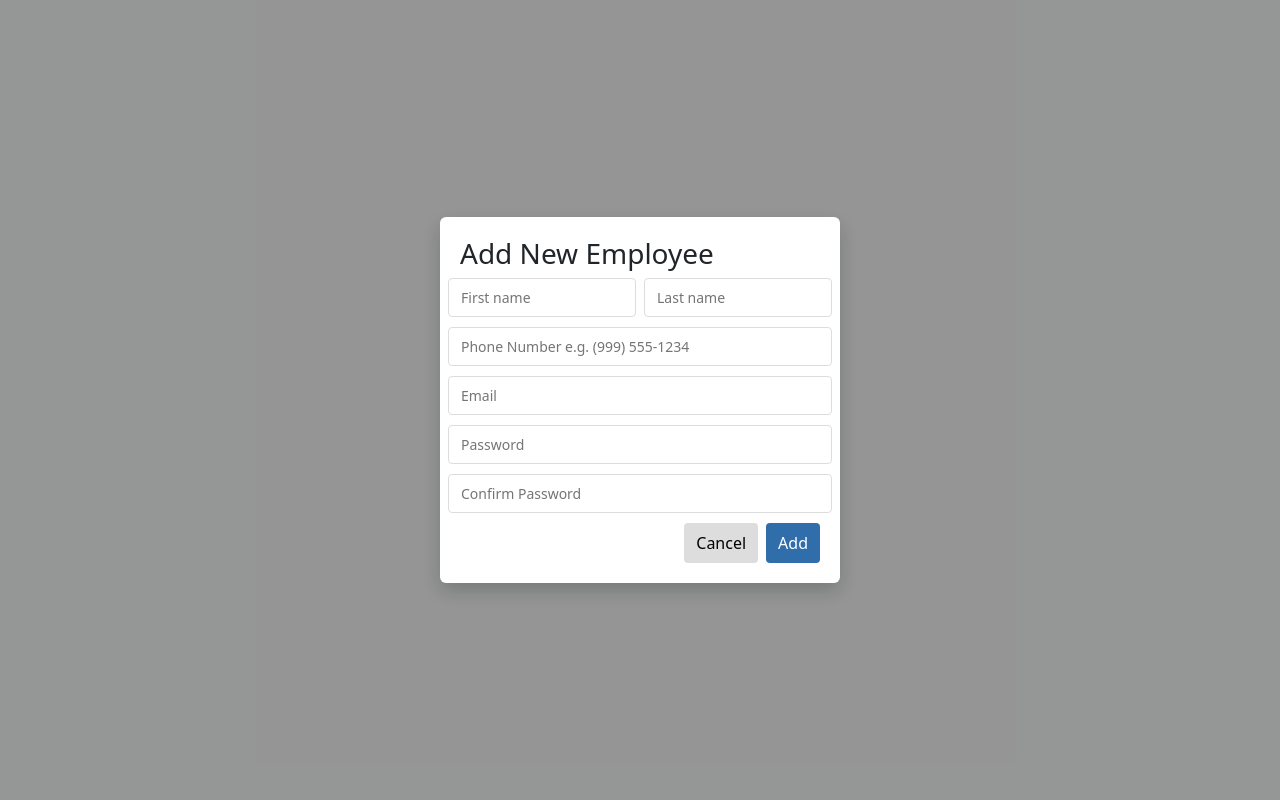
Test case: AddEmployeeForm › shows error when required fields are missing
Click the button "Add" at (793, 543), box top-left (766, 523), bottom-right (820, 563)
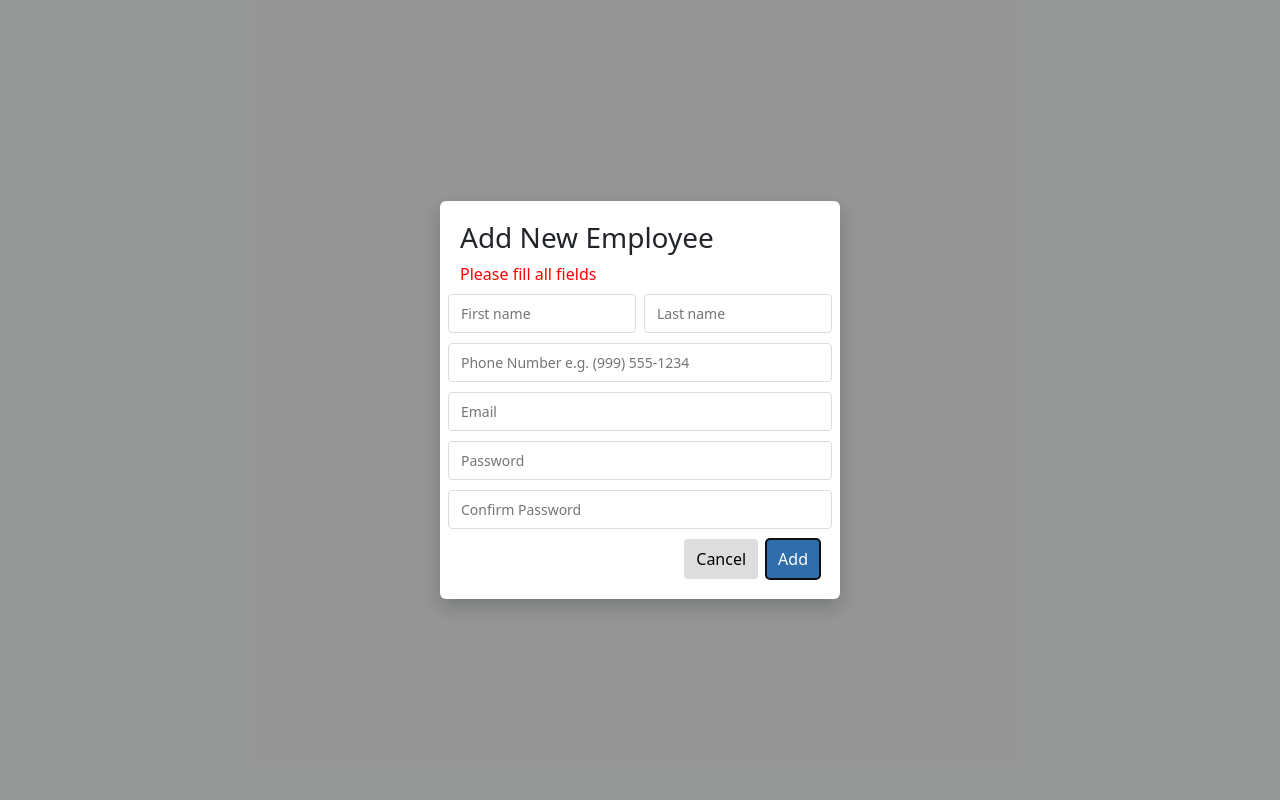
Expected: the text "Please fill all fields" is shown, top-left (460, 263), bottom-right (596, 285)
